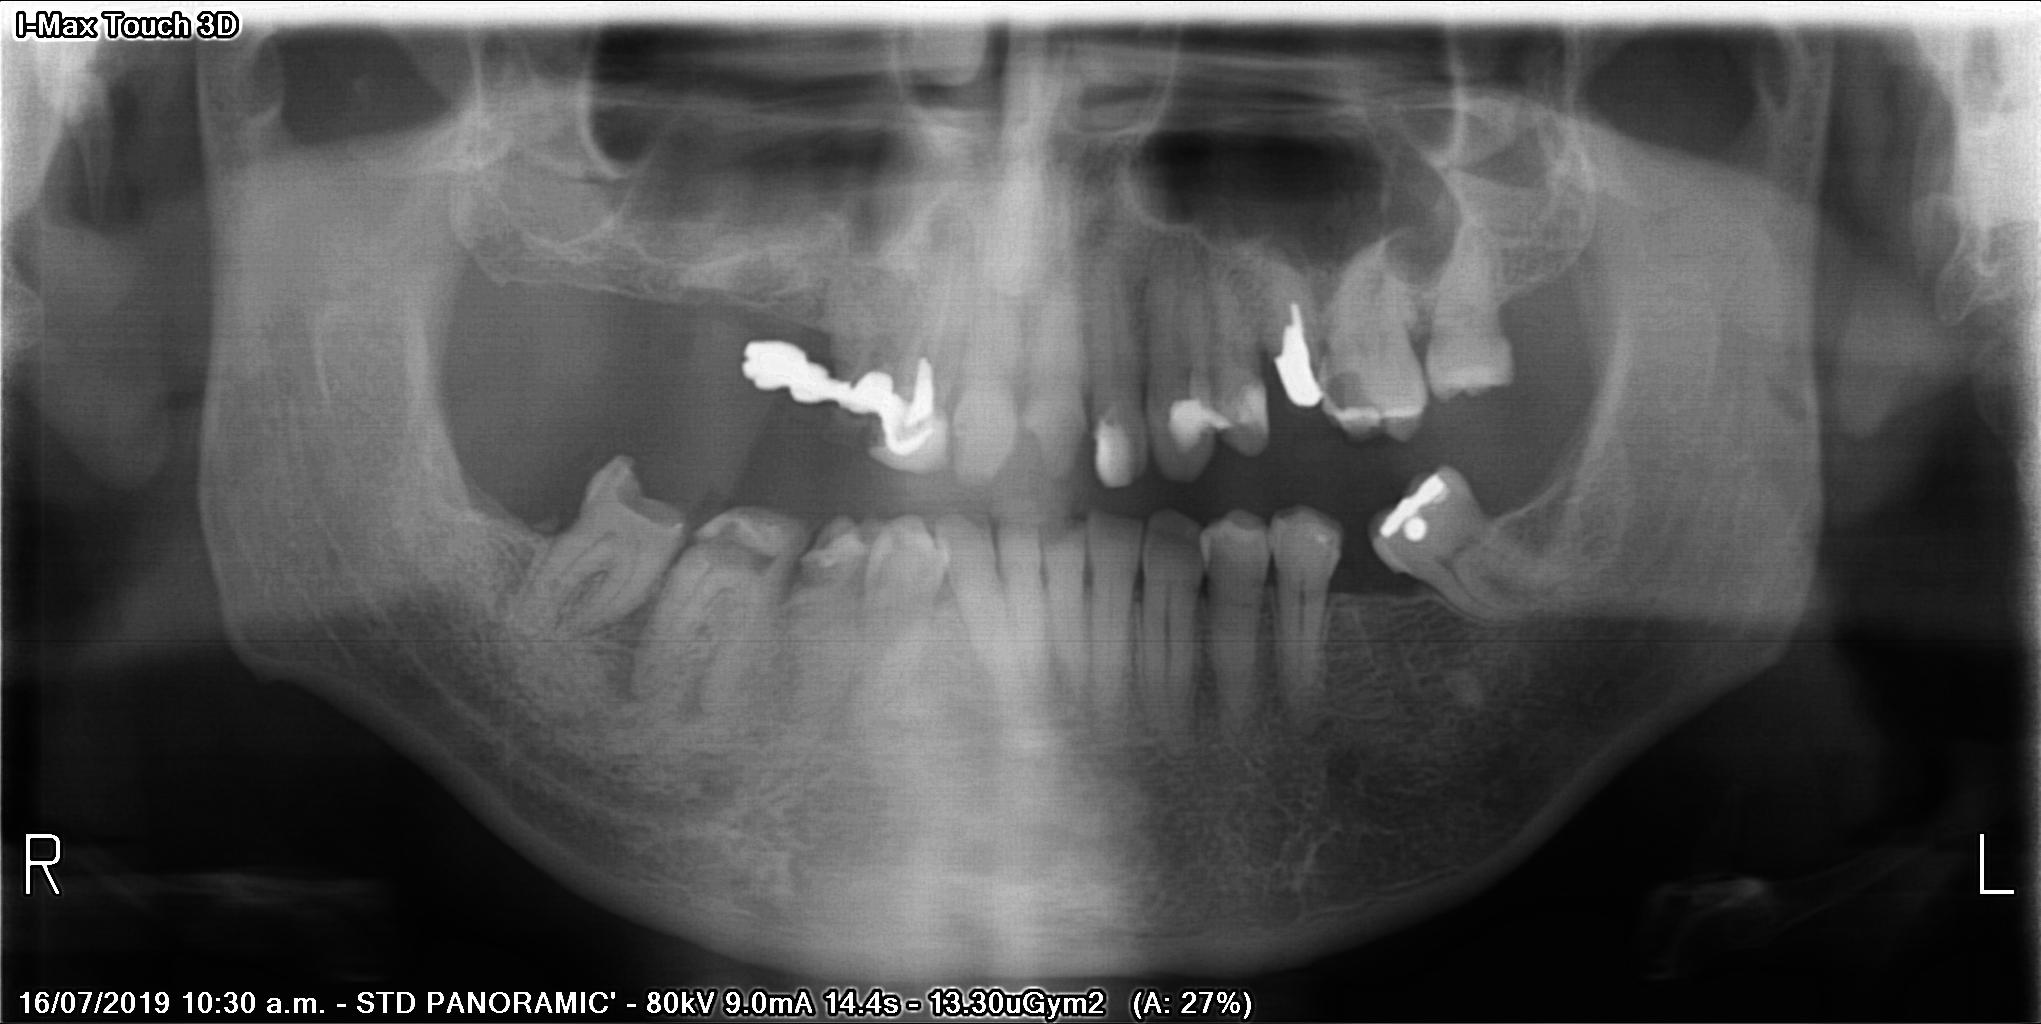Çürük: (1363, 475, 1459, 550), (885, 366, 947, 472), (1276, 303, 1327, 414), (1084, 422, 1140, 494), (1158, 401, 1227, 452), (1241, 381, 1269, 435)
Çürük Bölgesi: (693, 498, 781, 580), (610, 470, 688, 541), (1323, 360, 1370, 419), (829, 418, 889, 455)
